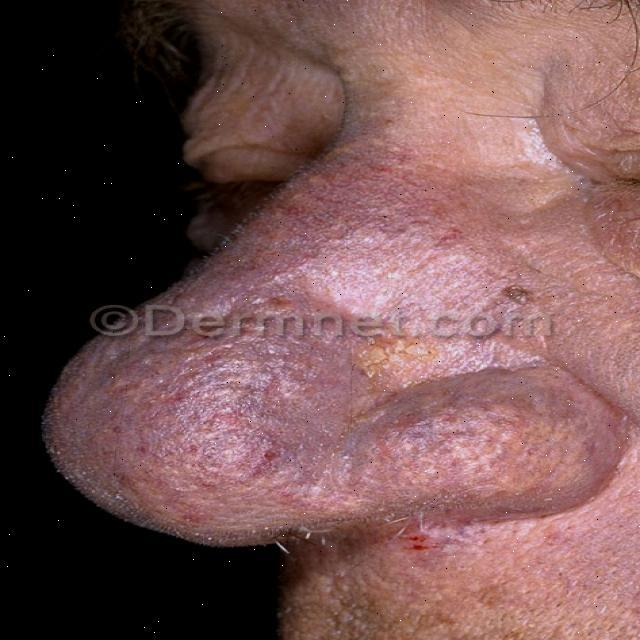images: (37, 0, 639, 639)
